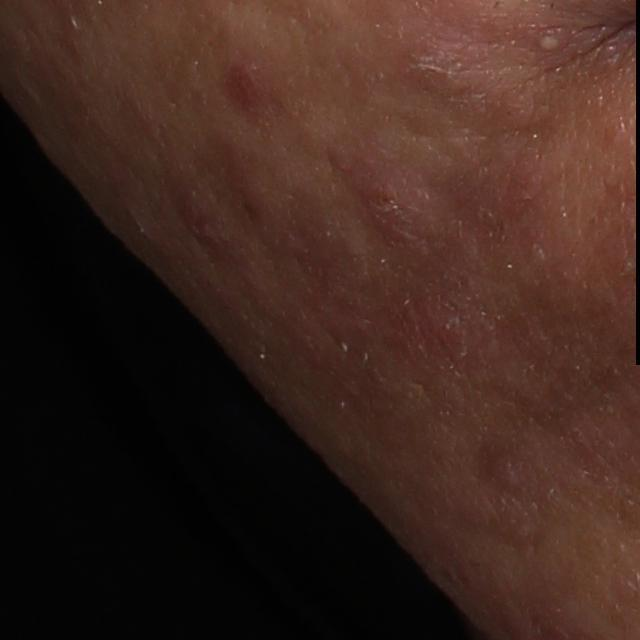papule: (336, 173, 426, 250), (170, 177, 229, 247), (223, 60, 278, 114), (233, 171, 278, 227)
pustule: (536, 26, 573, 60)
